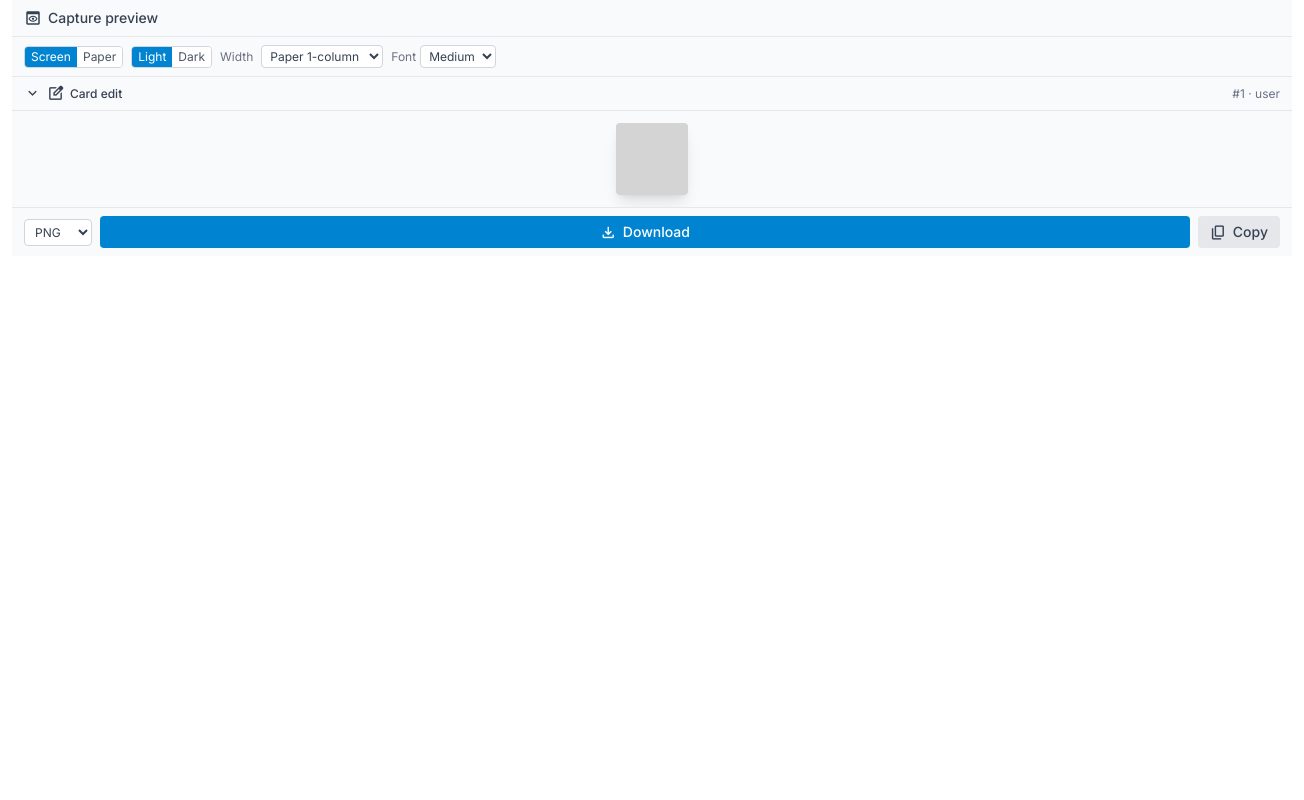
Test case: PresentationPreviewPanel › keeps the card editor collapsed until the bar is clicked
Click the button "Card edit #1 · user" at point(96, 93), box x1=12 y1=77 x2=1292 y2=110
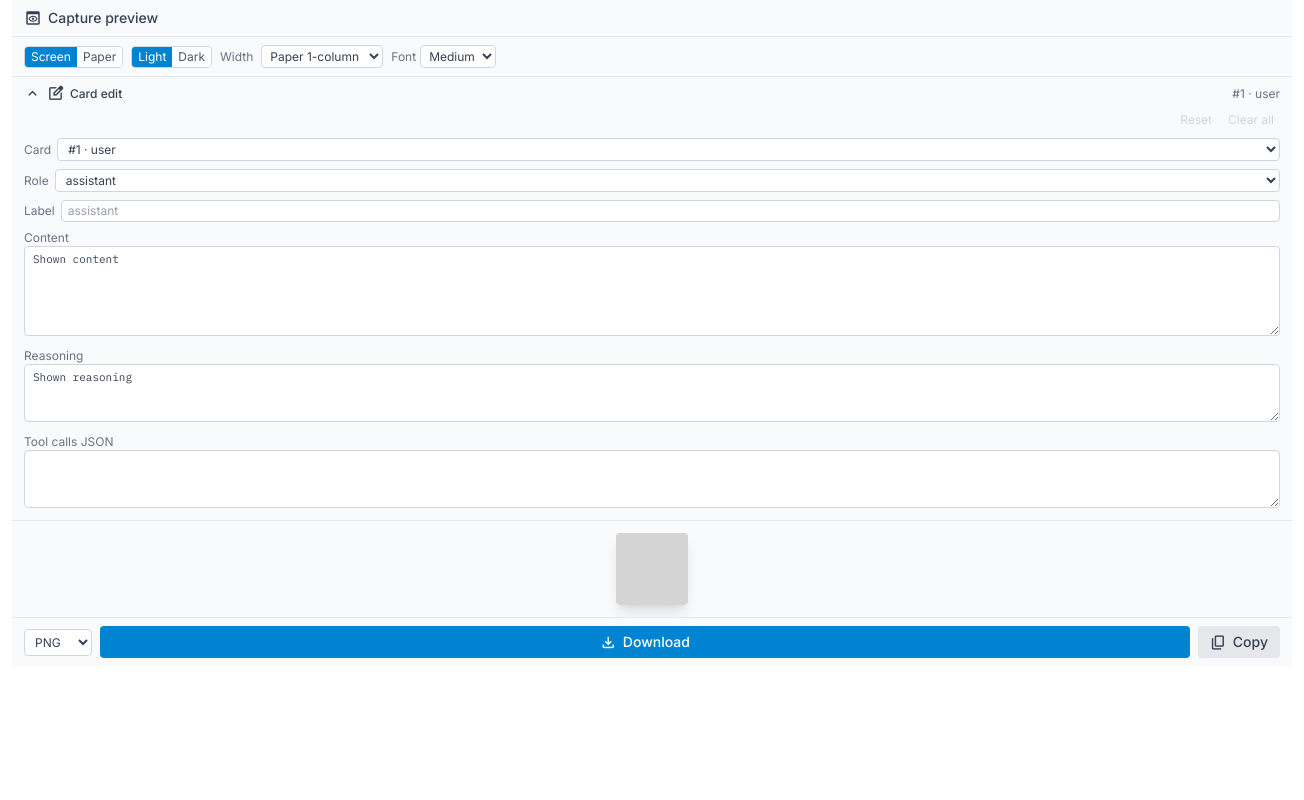
Expected: the button "Card edit #1 · user" is expanded, x1=12 y1=77 x2=1292 y2=110
Expected: the text box labelled "Content" is shown, x1=24 y1=246 x2=1280 y2=336
